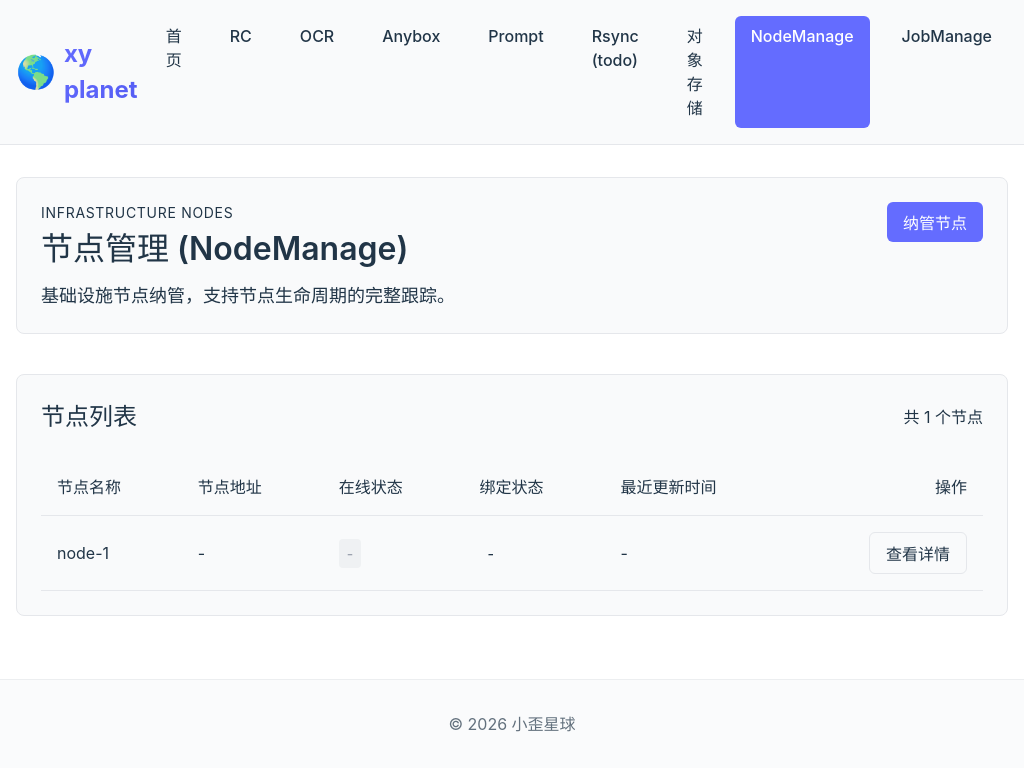
Test: NodeManagePage Integration › Create Node Onboarding › non-empty state shows a top-level 纳管节点 action which opens create entry
Click the button "纳管节点". click: (935, 222)
box: [887,202,983,242]
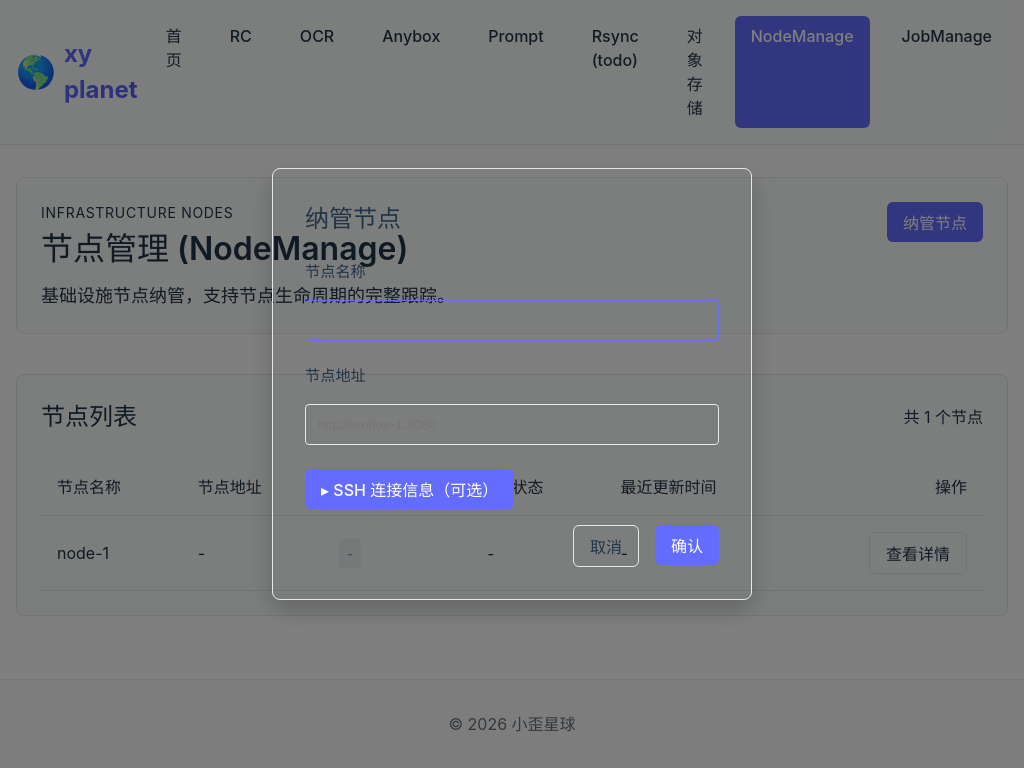
Expected: the dialog "纳管节点" is shown, [272,168,752,600]
